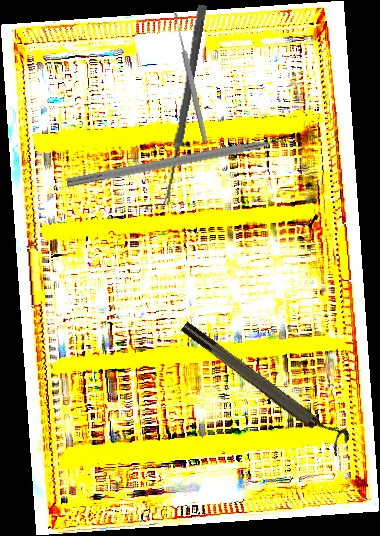Chopper: (65, 132, 304, 201)
Fixation Ring: (178, 311, 353, 457)
Surgical Spoon: (161, 4, 208, 206), (172, 11, 209, 144)
